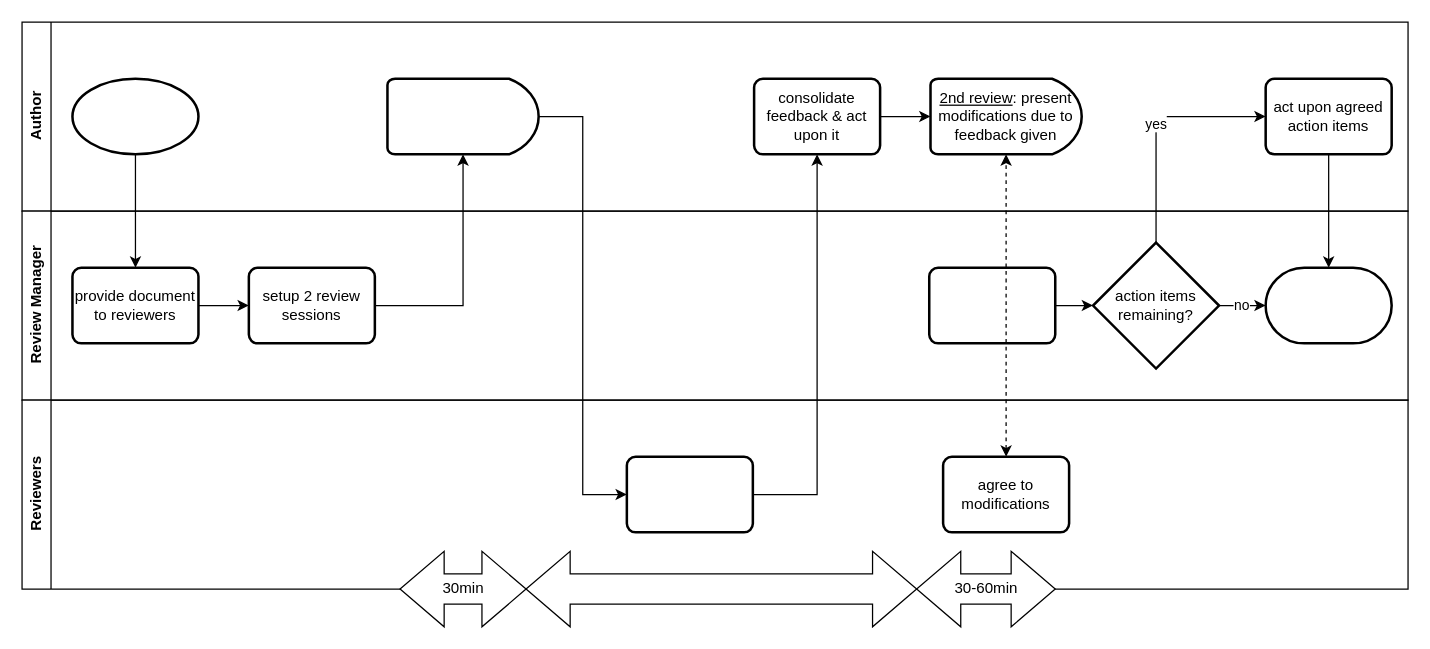
Image size: 1430x649. Some labels were removed from this diagram. The centre of each missing label's shape, as x and y in pixels:
1-2 weeks: the point at 721,588
1st review : present new document resp. changes: the point at 462,116
document signed-off: the point at 1328,305
new document or new version created: the point at 135,116
review document and provide feedback: the point at 689,494
write down open points and agreed action items: the point at 991,305
